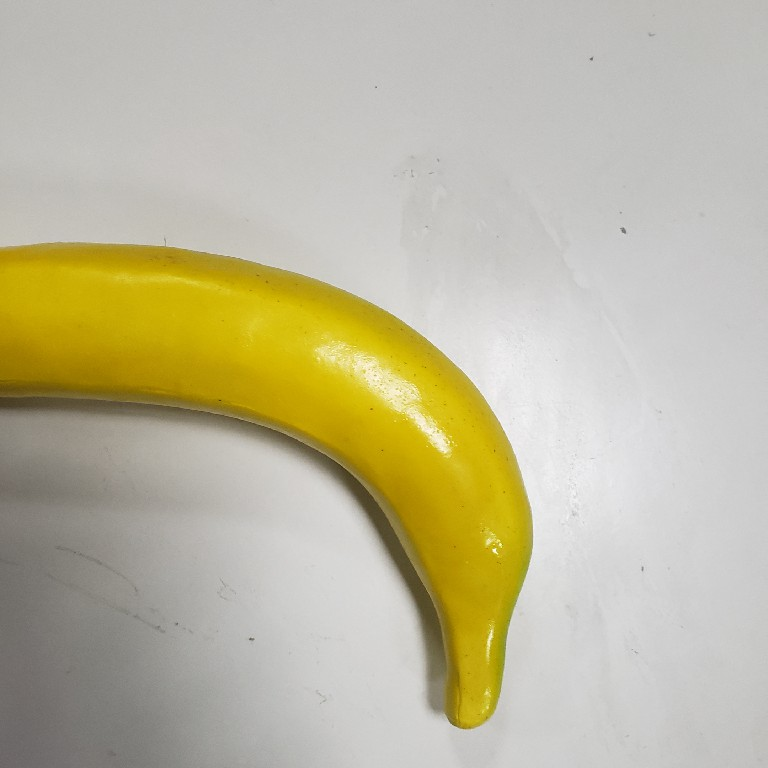fruit_banana: (1, 235, 537, 735)
